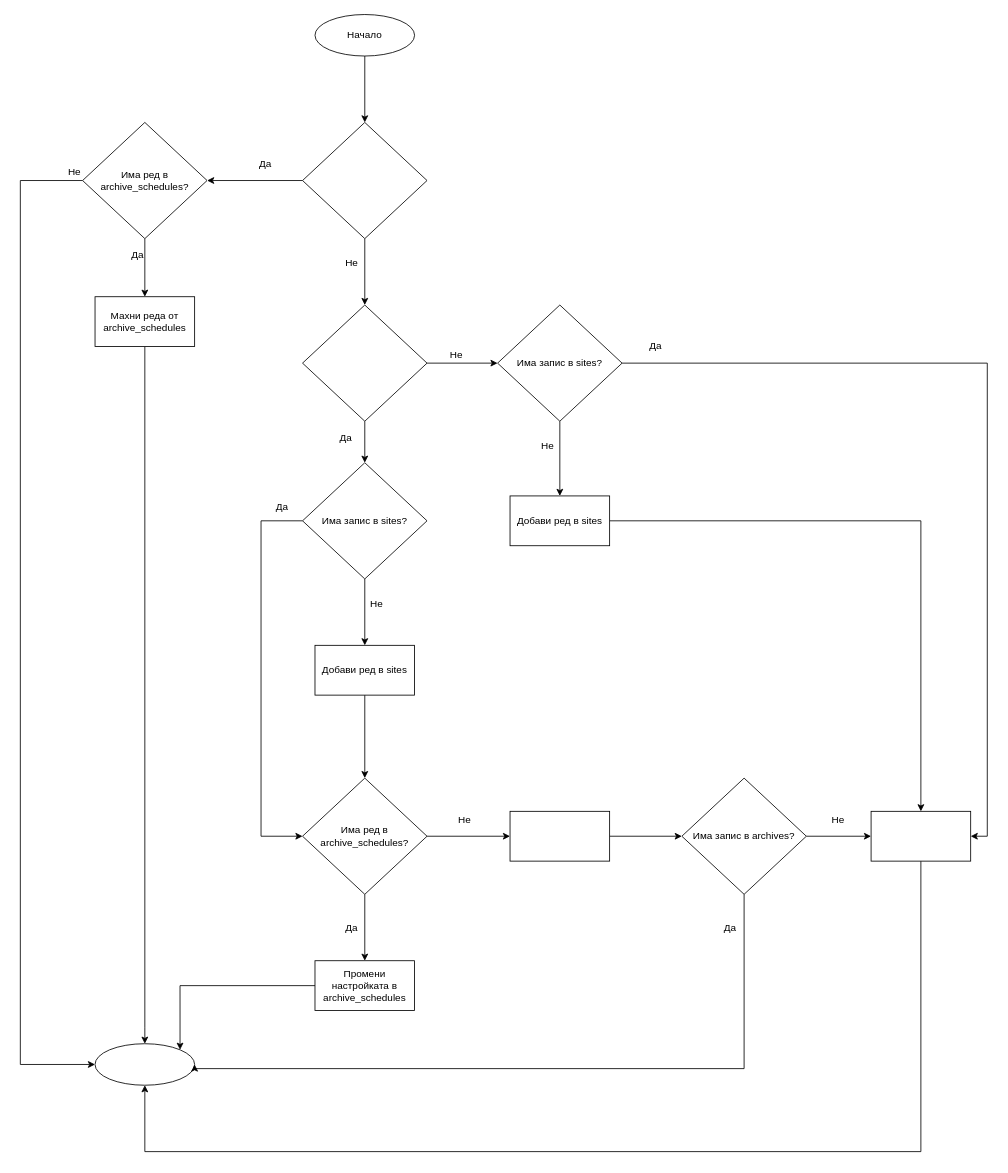
The diagram is 1008 pixels wide and 1173 high, and some of its shapes have lost their labels. The box of each missing label's shape, as (x1, y1, x2, y2) in pixels:
Да има автоматично архивиране?: (302, 304, 427, 421)
Да се спре автоматично архивиране?: (302, 122, 427, 239)
Добави ред в archive_schedules: (509, 810, 610, 861)
Добави ред в archives със статус pending: (870, 810, 971, 861)
Край: (94, 1043, 195, 1085)
